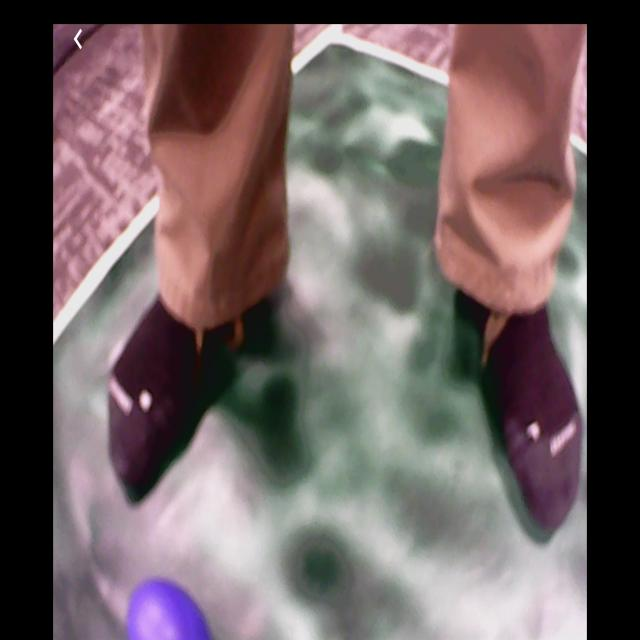ball: (119, 580, 212, 639)
